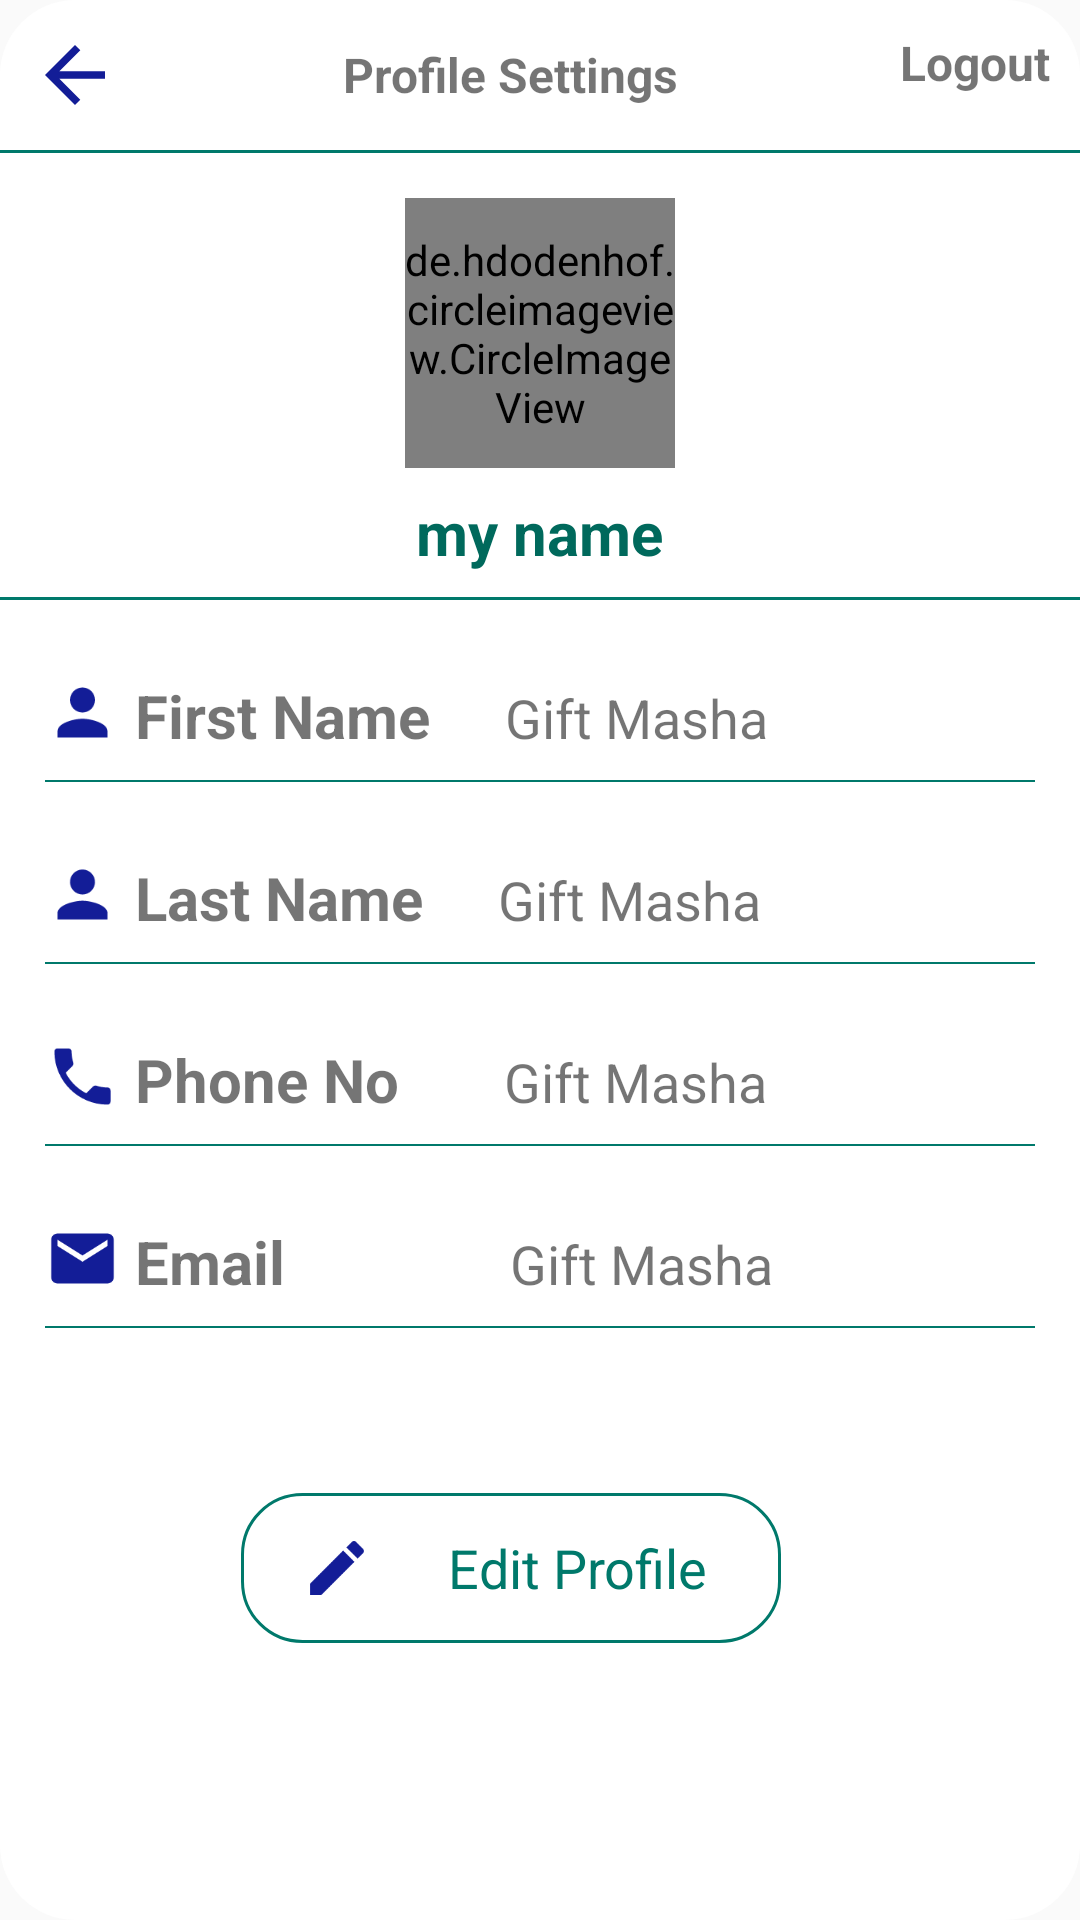

Named icons in this screenshot (1080×1920) and their centers, point (x, y):
arrow back: point (75, 75)
person: point (82, 712), point (82, 894)
